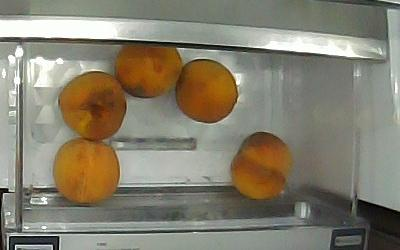peach: (60, 71, 128, 140), (54, 137, 120, 203), (230, 132, 291, 200), (176, 59, 238, 123), (115, 45, 182, 98)
